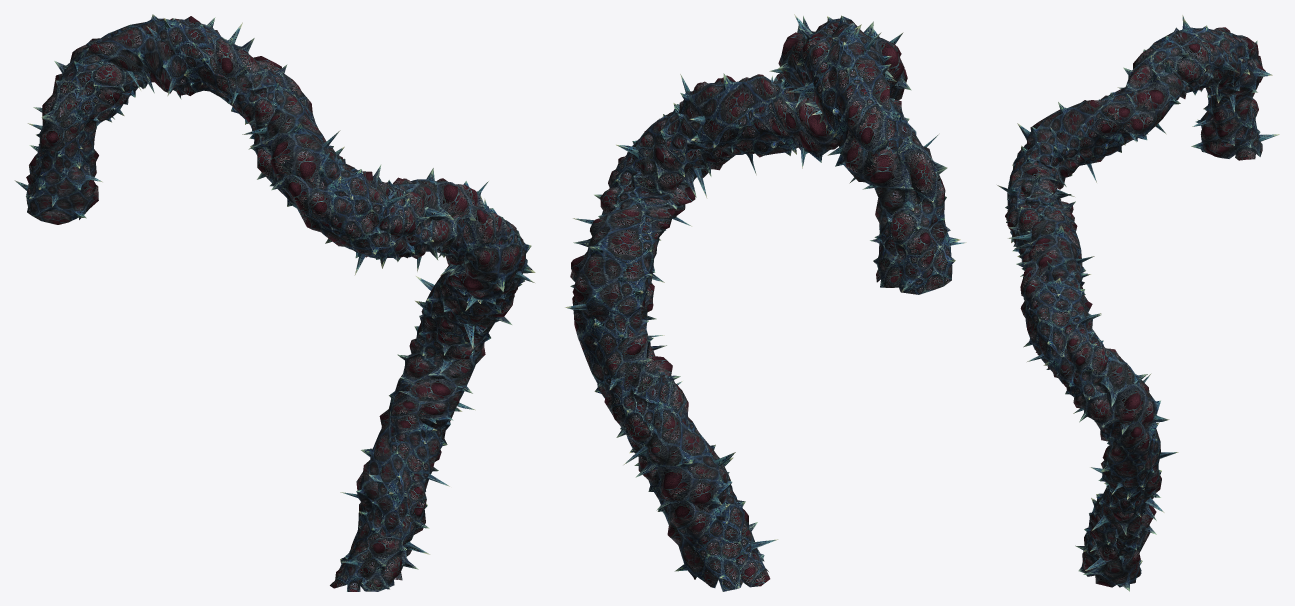
Rendered from backup.fbx.
The picture shows the model from 3 angles, left to right: view 1: azimuth 30°, elevation 25°; view 2: azimuth 150°, elevation 25°; view 3: azimuth 270°, elevation 25°; orthographic projection. The views are drawn at different scales.
Visible parts, largest first — view 1: LODGroup_1_MainMesh_1_SubMesh_1, LODGroup_1_MainMesh_1_SubMesh_2; view 2: LODGroup_1_MainMesh_1_SubMesh_1, LODGroup_1_MainMesh_1_SubMesh_2; view 3: LODGroup_1_MainMesh_1_SubMesh_1, LODGroup_1_MainMesh_1_SubMesh_2.
Boxes of the visible parts, box(x1,y1,x2,y2) form: LODGroup_1_MainMesh_1_SubMesh_1: box(14, 22, 534, 591); LODGroup_1_MainMesh_1_SubMesh_2: box(26, 14, 535, 588); LODGroup_1_MainMesh_1_SubMesh_1: box(565, 14, 966, 571); LODGroup_1_MainMesh_1_SubMesh_2: box(580, 15, 960, 591); LODGroup_1_MainMesh_1_SubMesh_1: box(997, 15, 1279, 587); LODGroup_1_MainMesh_1_SubMesh_2: box(1005, 18, 1260, 591).
Size of the model in its own units: 2453 by 3209 by 1686.
